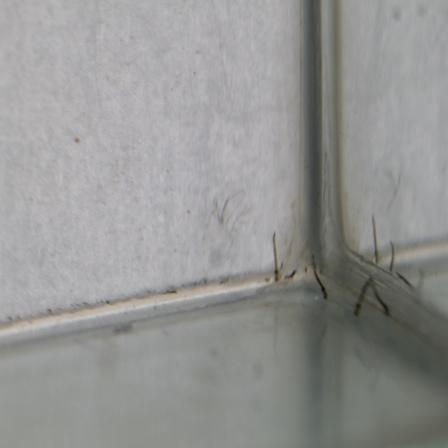Jentik-Nyamuk: (310, 250, 332, 304), (269, 227, 282, 286)
